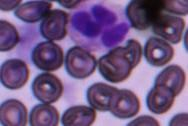N: (66, 0, 132, 53)
